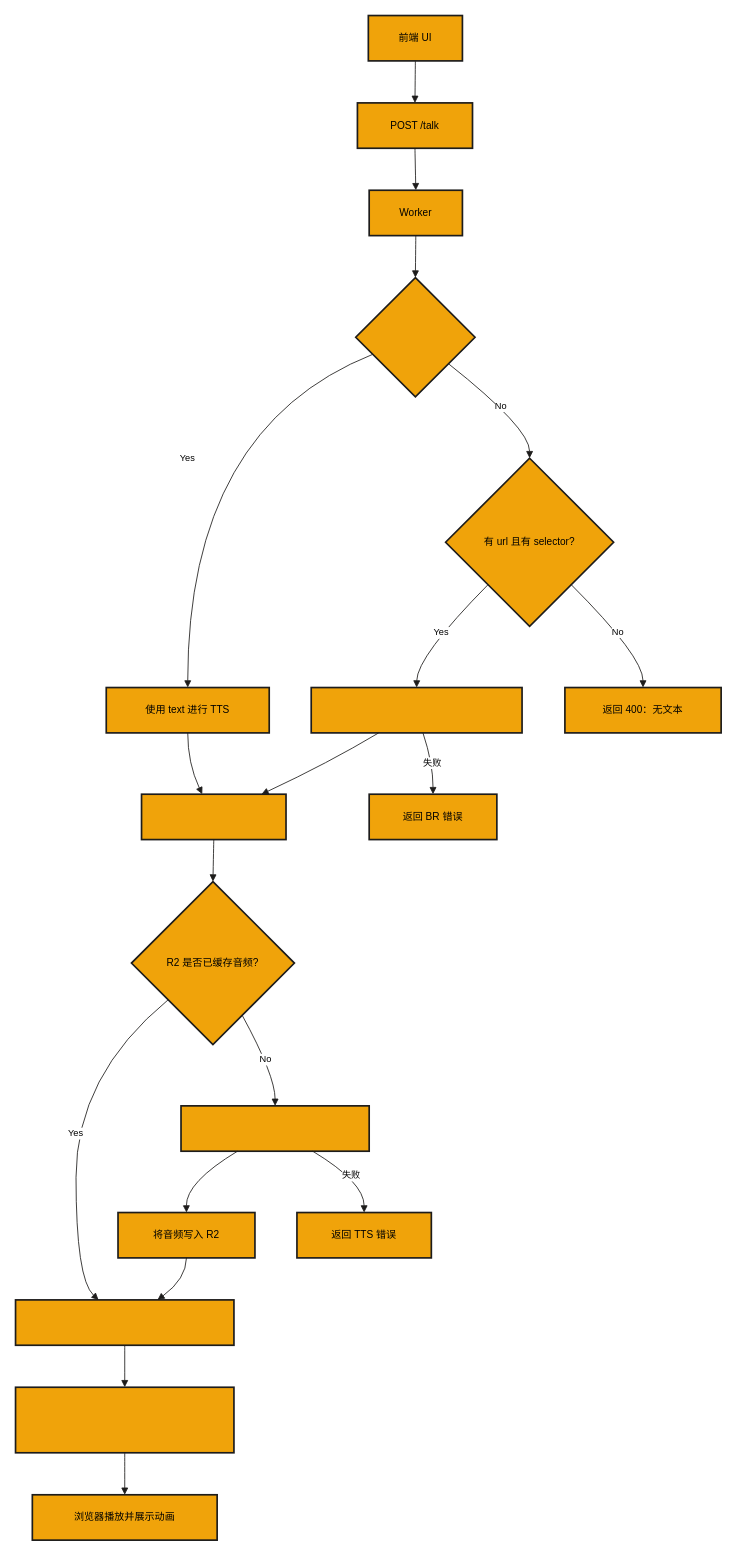
Some shapes in this 736 by 1555 pixel diagram are drawn without their labels. The shapes that lost their labels are listed below. From the top down, each one's box as (x1, y1, x2, y2) in pixels, then its label:
(354, 276, 475, 397): 有直接 text?
(310, 686, 522, 733): 调用 BR 抓取 selector 文本
(140, 793, 286, 840): 提取并清洗文本
(180, 1105, 370, 1152): 调用 TTS 服务生成音频
(14, 1299, 234, 1346): 返回 key（或直接返回音频）
(14, 1386, 234, 1453): 前端 GET /audio/:key 并播放
